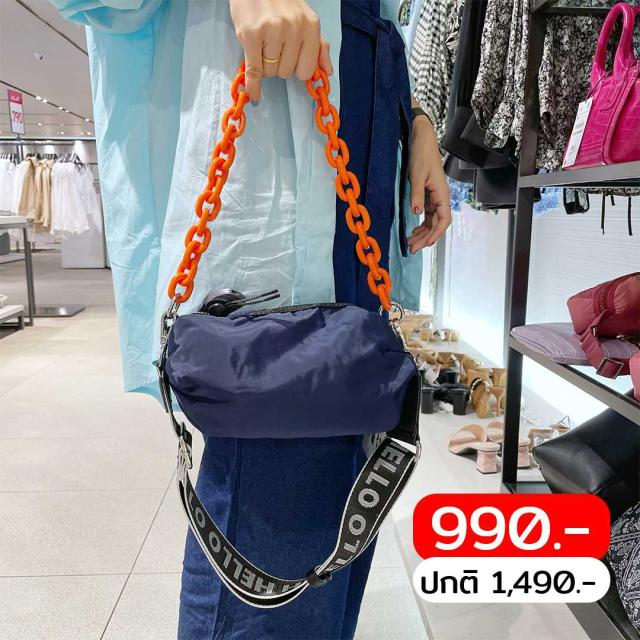Handbag: (158, 292, 434, 448)
